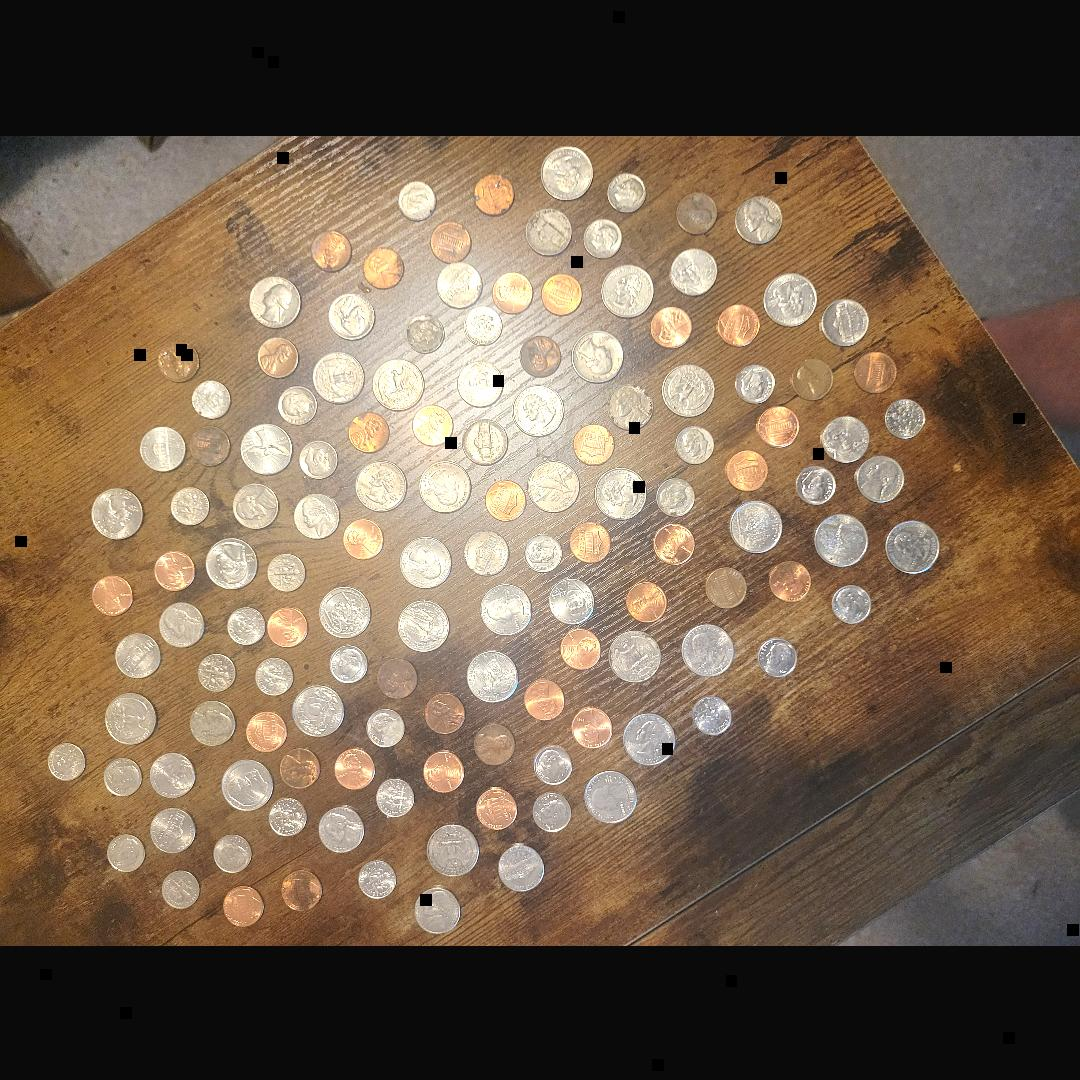Dime: (884, 396, 926, 438), (690, 696, 732, 735), (253, 656, 293, 696), (358, 858, 398, 898), (462, 304, 502, 344), (192, 379, 234, 417), (736, 363, 778, 401), (210, 832, 252, 870), (832, 584, 874, 622), (159, 868, 200, 906), (583, 220, 623, 258), (225, 606, 265, 644), (608, 174, 648, 212), (367, 708, 407, 746), (269, 796, 307, 836), (533, 744, 571, 784), (170, 487, 212, 523), (105, 832, 147, 868), (196, 652, 238, 688), (278, 387, 317, 425), (532, 791, 570, 830), (676, 425, 716, 462), (760, 638, 800, 675), (796, 465, 836, 502), (404, 315, 444, 352), (376, 777, 414, 815), (396, 181, 434, 218), (50, 744, 88, 780), (268, 553, 306, 589), (103, 758, 141, 794), (300, 442, 338, 478), (329, 644, 367, 680), (660, 479, 696, 516), (524, 534, 560, 570)
Nickel: (411, 886, 461, 934), (498, 844, 548, 892), (820, 414, 870, 462), (733, 195, 784, 242), (818, 298, 870, 344), (671, 248, 719, 294), (548, 578, 596, 624), (856, 456, 906, 500), (139, 424, 187, 469), (114, 632, 160, 678), (524, 208, 570, 254), (233, 484, 281, 528), (318, 808, 366, 852), (436, 262, 484, 306), (329, 294, 376, 338), (293, 493, 338, 538), (456, 360, 502, 404), (462, 530, 508, 574), (146, 808, 194, 850), (158, 604, 204, 646), (150, 753, 196, 795), (190, 702, 236, 744), (609, 383, 652, 427), (464, 420, 508, 462)
Penny: (517, 332, 563, 376), (423, 750, 467, 792), (524, 678, 568, 720), (716, 304, 762, 344), (421, 691, 467, 731), (852, 351, 895, 393), (491, 270, 533, 312), (570, 706, 612, 748), (656, 524, 698, 566), (222, 884, 264, 926), (157, 338, 199, 380), (430, 220, 474, 260), (256, 337, 300, 377), (340, 520, 384, 560), (771, 561, 815, 601), (624, 580, 668, 620), (726, 449, 769, 489), (676, 192, 719, 232), (246, 711, 290, 750), (476, 788, 518, 828), (544, 272, 584, 314), (706, 568, 748, 608), (280, 869, 322, 909), (474, 724, 516, 764), (333, 748, 375, 788), (572, 422, 614, 462), (654, 306, 696, 346), (153, 548, 195, 588), (568, 522, 610, 562), (560, 628, 601, 668), (412, 404, 453, 444), (378, 659, 420, 698), (364, 248, 404, 288), (758, 405, 798, 445), (488, 480, 528, 520), (190, 425, 232, 463), (91, 576, 133, 614), (267, 606, 309, 644), (348, 412, 390, 450), (476, 175, 516, 214), (794, 358, 834, 397), (279, 748, 321, 785), (314, 231, 352, 269)
Quarter: (880, 518, 939, 572), (659, 364, 715, 418), (811, 514, 867, 567), (764, 272, 818, 326), (220, 756, 276, 808), (680, 624, 736, 676), (538, 147, 593, 199), (89, 487, 145, 538), (622, 712, 676, 764), (426, 822, 480, 874), (584, 769, 636, 823), (205, 537, 259, 589), (400, 536, 454, 588), (601, 265, 656, 316), (248, 276, 304, 326), (290, 683, 344, 734), (480, 584, 532, 636), (104, 692, 156, 744), (464, 648, 516, 700), (730, 502, 784, 552), (239, 422, 293, 472), (526, 461, 580, 511), (420, 461, 472, 512), (513, 384, 564, 436), (594, 468, 646, 518), (611, 630, 661, 681), (373, 358, 424, 408), (398, 600, 448, 650), (320, 588, 372, 636), (572, 333, 624, 381), (312, 352, 364, 400), (353, 462, 405, 508)
